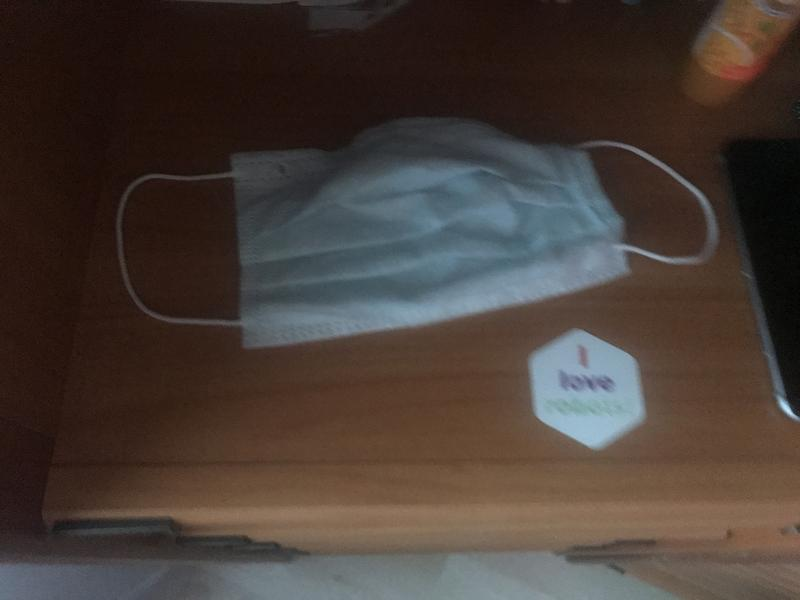medical_mask: (116, 119, 717, 326)
